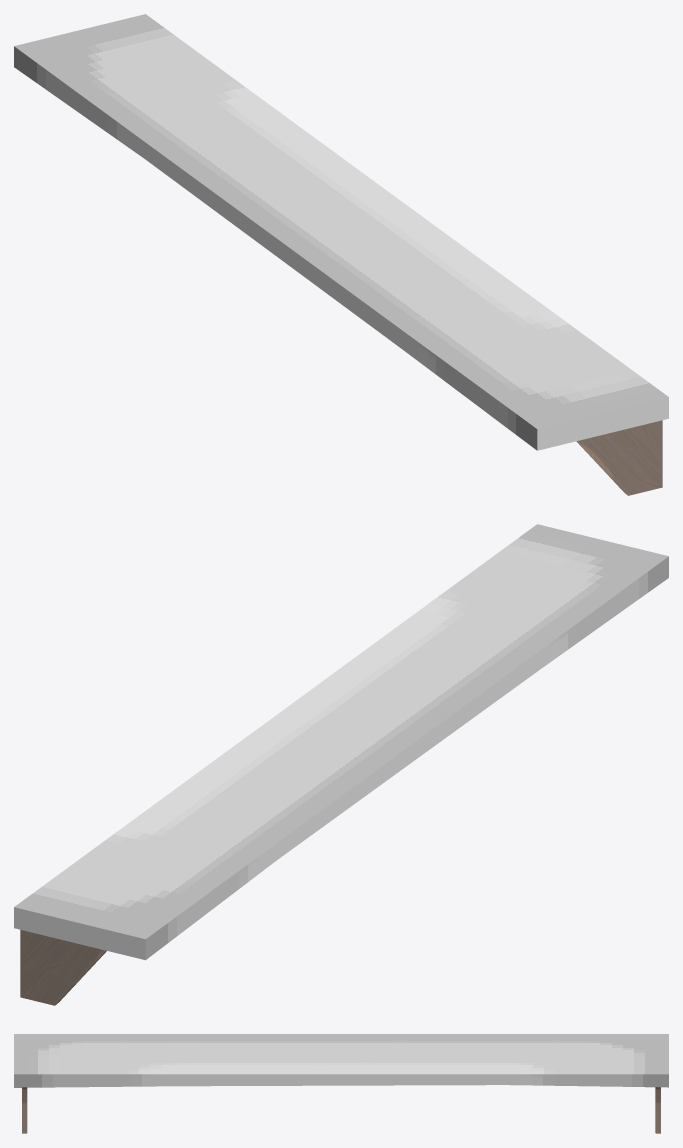
The model's file is SM_LargeShelf.fbx.
3 renders of one model, top to bottom at view 1: azimuth 30°, elevation 25°; view 2: azimuth 150°, elevation 25°; view 3: azimuth 270°, elevation 25°, orthographic. The views are drawn at different scales.
Visible parts, largest first — view 1: SM_LargeShelf_LOD0; view 2: SM_LargeShelf_LOD0; view 3: SM_LargeShelf_LOD0.
Boxes of the visible parts, x1,y1,x2,y2 form: SM_LargeShelf_LOD0: (14,14,668,495); SM_LargeShelf_LOD0: (14,524,668,1005); SM_LargeShelf_LOD0: (14,1034,668,1133).
Size of the model in its own units: 42.08 by 290 by 29.01.
